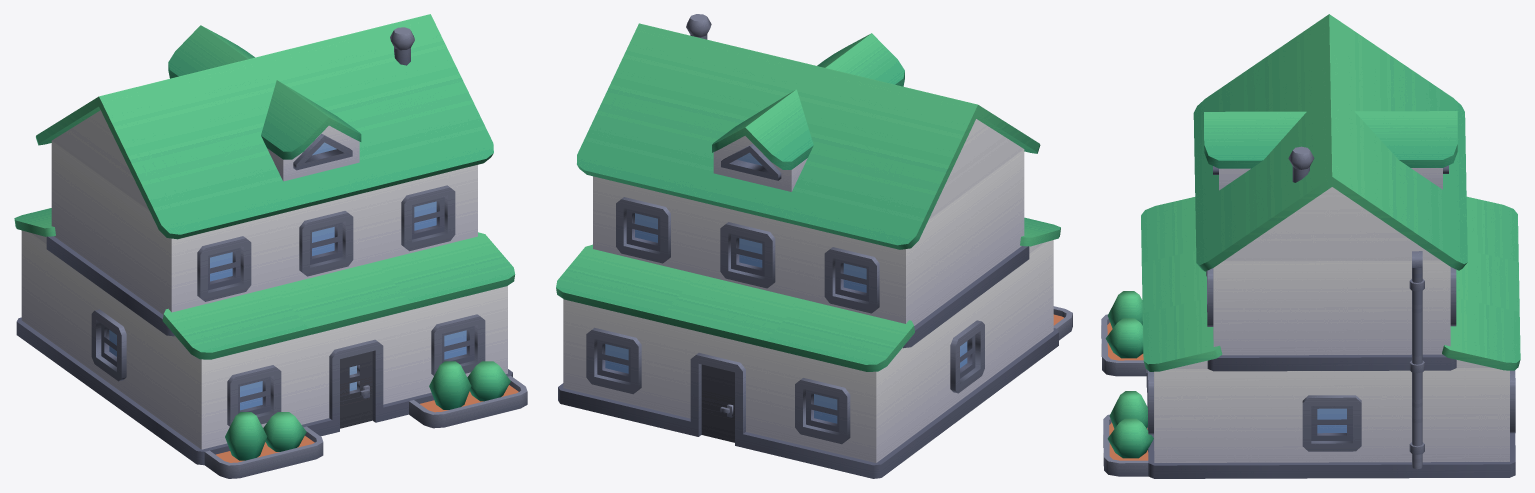
The model's file is building-type-t.001_lev3.glb.
3 renders of one model, left to right at view 1: azimuth 30°, elevation 25°; view 2: azimuth 150°, elevation 25°; view 3: azimuth 270°, elevation 25°, orthographic.
Visible parts, largest first — view 1: building-type-t.001_lev3; view 2: building-type-t.001_lev3; view 3: building-type-t.001_lev3.
Part boxes in pixels (x1=…): building-type-t.001_lev3: x1=14, y1=14, x2=527, y2=478; building-type-t.001_lev3: x1=556, y1=14, x2=1072, y2=478; building-type-t.001_lev3: x1=1101, y1=14, x2=1520, y2=478.
Size of the model in its own units: 6.57 by 5.78 by 7.08.
1 material, 1 textured.
